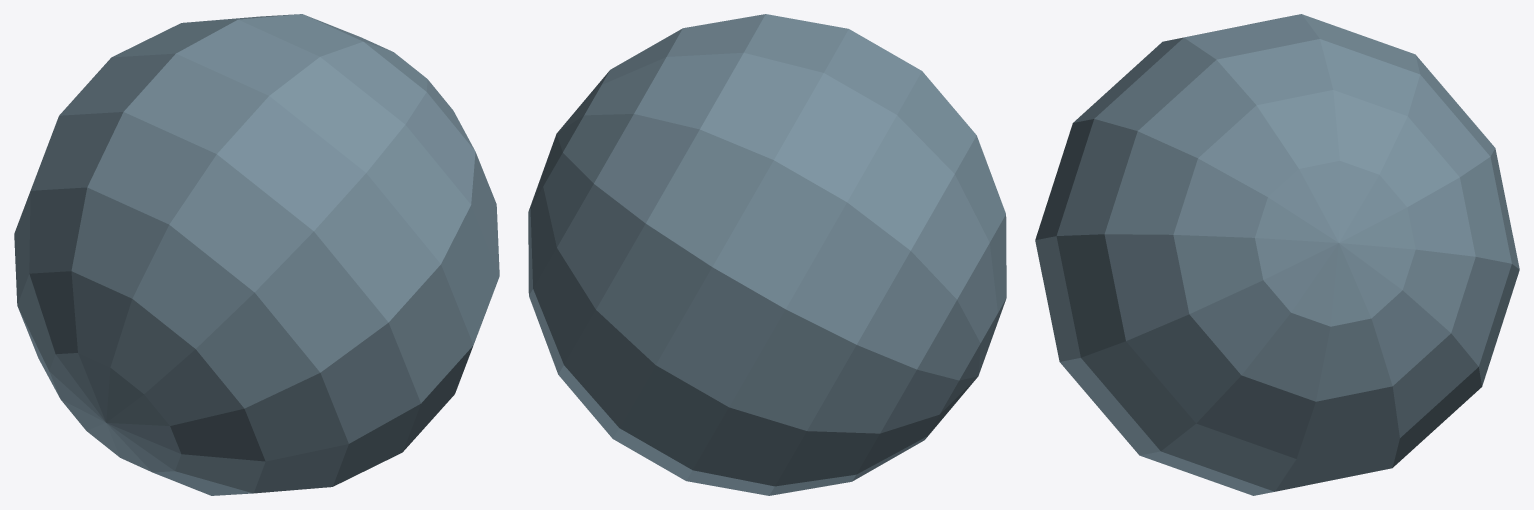
Rendered from astronaut_base_group456711604_lev4.glb.
The picture shows the model from 3 angles, left to right: view 1: azimuth 30°, elevation 25°; view 2: azimuth 150°, elevation 25°; view 3: azimuth 270°, elevation 25°; orthographic projection.
Parts seen in each view (by area): view 1: astronaut_base_group456711604_lev4; view 2: astronaut_base_group456711604_lev4; view 3: astronaut_base_group456711604_lev4.
Part boxes in pixels (left/top/right/bottom): astronaut_base_group456711604_lev4: left=14, top=14, right=499, bottom=495; astronaut_base_group456711604_lev4: left=528, top=14, right=1006, bottom=495; astronaut_base_group456711604_lev4: left=1035, top=14, right=1519, bottom=495.
Size of the model in its own units: 0.0326 by 0.0326 by 0.0329.
